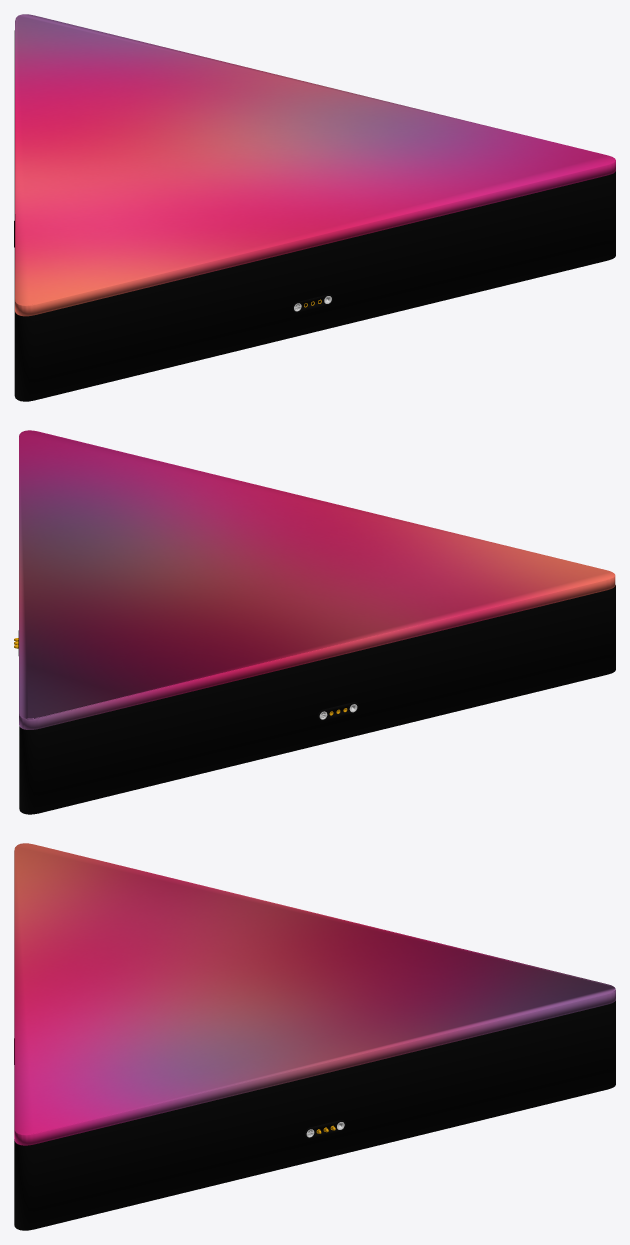
File: model_RGB2.glb
3 views of the same model, one above another, from view 1: azimuth 30°, elevation 25°; view 2: azimuth 150°, elevation 25°; view 3: azimuth 270°, elevation 25° (orthographic).
Parts seen in each view (by area): view 1: Цилиндр.001, Цилиндр; view 2: Цилиндр.001, Цилиндр; view 3: Цилиндр.001, Цилиндр.
Part boxes in pixels (<box>): Цилиндр.001: <box>15,14,615,316</box>; Цилиндр: <box>14,30,615,401</box>; Цилиндр.001: <box>19,430,615,729</box>; Цилиндр: <box>19,585,615,814</box>; Цилиндр.001: <box>14,843,615,1145</box>; Цилиндр: <box>14,1001,615,1230</box>.
Size of the model in its own units: 0.3146 by 0.0485 by 0.2741.
5 materials, 1 textured.
